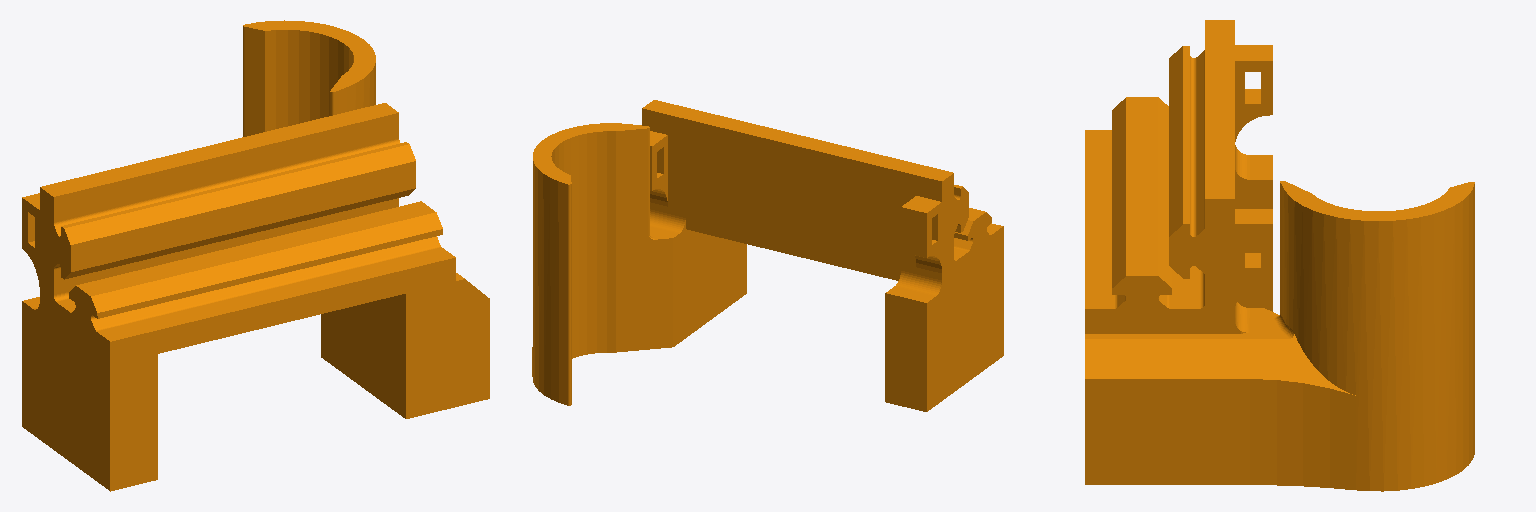
robot.urdf — kuka-model:
<?xml version="1.0" ?>
<!-- =================================================================================== -->
<!-- |    This document was autogenerated by xacro from kuka-model.xacro               | -->
<!-- |    EDITING THIS FILE BY HAND IS NOT RECOMMENDED                                 | -->
<!-- =================================================================================== -->
<robot name="kuka-model" xmlns:xacro="http://www.ros.org/wiki/xacro">
  <!-- Prefix for joints and links -->
  <!-- KUKA software joint limits -5 degrees -->
  <!-- Axis a2 gedit and a3 offset (wrt KUKA axis angles) not includied here (view joints definitions)-->
  <!-- Alpha value for KUKA Shadow -->
  <!-- Joints -->
  <joint name="a1" type="revolute">
    <origin rpy="0 0 0" xyz="0 0 0.35"/>
    <parent link="base"/>
    <child link="link_1"/>
    <axis xyz="0 0 -1"/>
    <limit effort="0" lower="-3.141594" upper="3.141594" velocity="2.6529"/>
  </joint>
  <joint name="a2" type="revolute">
    <origin rpy="0 0 0" xyz="0.3 -0.068 0.315"/>
    <parent link="link_1"/>
    <child link="link_2"/>
    <axis xyz="0 1 0"/>
    <!-- Offset de -90 -->
    <limit effort="0" lower="-0.698132" upper="1.221731" velocity="2.6529"/>
  </joint>
  <joint name="a3" type="revolute">
    <origin rpy="0 0 0" xyz="0 -0.011 0.65"/>
    <parent link="link_2"/>
    <child link="link_3"/>
    <axis xyz="0 0.99939 -0.034899"/>
    <!-- Offset +90 -->
    <limit effort="0" lower="-3.5779265" upper="1.1344645" velocity="2.6529"/>
  </joint>
  <joint name="a4" type="revolute">
    <origin rpy="0 0 0" xyz="0.358 0.08636 0.15208"/>
    <parent link="link_3"/>
    <child link="link_4"/>
    <axis xyz="-1 0 0"/>
    <limit effort="0" lower="-6.0213885" upper="6.0213885" velocity="4.3633"/>
  </joint>
  <joint name="a5" type="revolute">
    <origin rpy="0 0 0" xyz="0.242 0.020238 -0.00070671"/>
    <parent link="link_4"/>
    <child link="link_5"/>
    <axis xyz="0 1 0"/>
    <limit effort="0" lower="-1.919863" upper="1.396264" velocity="6.2308"/>
  </joint>
  <joint name="a6" type="revolute">
    <origin rpy="0 0 0" xyz="0.1125 -0.02025 0"/>
    <parent link="link_5"/>
    <child link="link_6"/>
    <axis xyz="-1 0 0"/>
    <limit effort="0" lower="-6.0213885" upper="6.0213885" velocity="11.519"/>
  </joint>
  <!-- Links -->
  <link name="base">
    <visual>
      <origin rpy="0 0 0" xyz="0 0 0"/>
      <geometry>
        <mesh filename="package://kuka/meshes/visual/base_link.stl"/>
      </geometry>
      <material name="Black">
        <color rgba="0.2 0.2 0.2 1"/>
      </material>
    </visual>
    <collision>
      <origin rpy="0 0 0" xyz="0 0 0"/>
      <geometry>
        <mesh filename="package://kuka/meshes/collision/base_link.stl"/>
      </geometry>
    </collision>
  </link>
  <link name="link_1">
    <inertial>
      <origin rpy="0 0 0" xyz="0.11674 0.022325 0.17065"/>
      <mass value="33.045"/>
      <inertia ixx="0.96011" ixy="0.14584" ixz="0.51813" iyy="1.5289" iyz="0.11532" izz="1.3182"/>
    </inertial>
    <visual>
      <origin rpy="0 0 0" xyz="0 0 0"/>
      <geometry>
        <mesh filename="package://kuka/meshes/visual/link_1.stl"/>
      </geometry>
      <material name="Orange">
        <color rgba="0.94 0.590 0.08 1"/>
      </material>
    </visual>
    <collision>
      <origin rpy="0 0 0" xyz="0 0 0"/>
      <geometry>
        <mesh filename="package://kuka/meshes/collision/link_1.stl"/>
      </geometry>
    </collision>
  </link>
  <link name="link_2">
    <inertial>
      <origin rpy="0 0 0" xyz="-5.1658E-05 -0.076847 0.27349"/>
      <mass value="14.509"/>
      <inertia ixx="0.64764" ixy="6.686E-05" ixz="8.7057E-06" iyy="0.64831" iyz="-0.0047" izz="0.052771"/>
    </inertial>
    <visual>
      <origin rpy="0 0 0" xyz="0 0 0"/>
      <geometry>
        <mesh filename="package://kuka/meshes/visual/link_2.stl"/>
      </geometry>
      <material name="Orange">
        <color rgba="0.94 0.590 0.08 1"/>
      </material>
    </visual>
    <collision>
      <origin rpy="0 0 0" xyz="0 0 0"/>
      <geometry>
        <mesh filename="package://kuka/meshes/collision/link_2.stl"/>
      </geometry>
    </collision>
  </link>
  <link name="link_3">
    <inertial>
      <origin rpy="0 0 0" xyz="0.0026683 0.11641 0.087839"/>
      <mass value="13.751"/>
      <inertia ixx="0.15848" ixy="-0.021262" ixz="0.002384" iyy="0.32598" iyz="-0.0032541" izz="0.28494"/>
    </inertial>
    <visual>
      <origin rpy="0 0 0" xyz="0 0 0"/>
      <geometry>
        <mesh filename="package://kuka/meshes/visual/link_3.stl"/>
      </geometry>
      <material name="Orange">
        <color rgba="0.94 0.590 0.08 1"/>
      </material>
    </visual>
    <collision>
      <origin rpy="0 0 0" xyz="0 0 0"/>
      <geometry>
        <mesh filename="package://kuka/meshes/collision/link_3.stl"/>
      </geometry>
    </collision>
  </link>
  <link name="link_4">
    <inertial>
      <origin rpy="0 0 0" xyz="0.11605 0.011227 -0.0003921"/>
      <mass value="2.1033"/>
      <inertia ixx="0.0040841" ixy="0.0015385" ixz="-5.3731E-05" iyy="0.012206" iyz="-5.7395E-05" izz="0.013848"/>
    </inertial>
    <visual>
      <origin rpy="0 0 0" xyz="0 0 0"/>
      <geometry>
        <mesh filename="package://kuka/meshes/visual/link_4.stl"/>
      </geometry>
      <material name="Orange">
        <color rgba="0.94 0.590 0.08 1"/>
      </material>
    </visual>
    <collision>
      <origin rpy="0 0 0" xyz="0 0 0"/>
      <geometry>
        <mesh filename="package://kuka/meshes/collision/link_4.stl"/>
      </geometry>
    </collision>
  </link>
  <link name="link_5">
    <inertial>
      <origin rpy="0 0 0" xyz="0.023271 -0.036872 4.3221E-10"/>
      <mass value="0.64815"/>
      <inertia ixx="0.00060616" ixy="0.00023977" ixz="4.1189E-12" iyy="0.0012368" iyz="-1.4095E-13" izz="0.0013528"/>
    </inertial>
    <visual>
      <origin rpy="0 0 0" xyz="0 0 0"/>
      <geometry>
        <mesh filename="package://kuka/meshes/visual/link_5.stl"/>
      </geometry>
      <material name="Orange">
        <color rgba="0.94 0.590 0.08 1"/>
      </material>
    </visual>
    <collision>
      <origin rpy="0 0 0" xyz="0 0 0"/>
      <geometry>
        <mesh filename="package://kuka/meshes/collision/link_5.stl"/>
      </geometry>
    </collision>
  </link>
  <link name="link_6">
    <inertial>
      <origin rpy="0 0 0" xyz="0.0065821 3.3266E-05 -0.00027413"/>
      <mass value="0.023044"/>
      <inertia ixx="1.0462E-05" ixy="1.3009E-09" ixz="-1.072E-08" iyy="5.6691E-06" iyz="-3.9092E-08" izz="5.3518E-06"/>
    </inertial>
    <visual>
      <origin rpy="0 0 0" xyz="0 0 0"/>
      <geometry>
        <mesh filename="package://kuka/meshes/visual/link_6.stl"/>
      </geometry>
      <material name="Gray">
        <color rgba="0.74 0.74 0.74 1"/>
      </material>
    </visual>
    <collision>
      <origin rpy="0 0 0" xyz="0 0 0"/>
      <geometry>
        <mesh filename="package://kuka/meshes/collision/link_6.stl"/>
      </geometry>
    </collision>
  </link>
  <!-- Include tool -->
</robot>

--- Facts derived from the render (not from the file) ---
Views: 3 orthographic renders of the robot side by side, from view 1: azimuth 30°, elevation 25°; view 2: azimuth 150°, elevation 25°; view 3: azimuth 270°, elevation 25°.
Robot: kuka-model — 7 links, 6 joints (6 revolute); root link base; default pose: all joints at 0.
Links seen in each view (by area): view 1: link_3; view 2: link_3; view 3: link_3.
Boxes of the visible links, <box> form: link_3: <box>22,20,489,491</box>; link_3: <box>532,100,1003,411</box>; link_3: <box>1085,20,1474,491</box>.
Size in the robot's own frame: 0.0795 by 0.0646 by 0.0494 metres.
Meshes: 7 distinct files referenced, 1 mesh visuals loaded (1 binary STL); not drawn: 6 (reference not matched to a file when rendering).